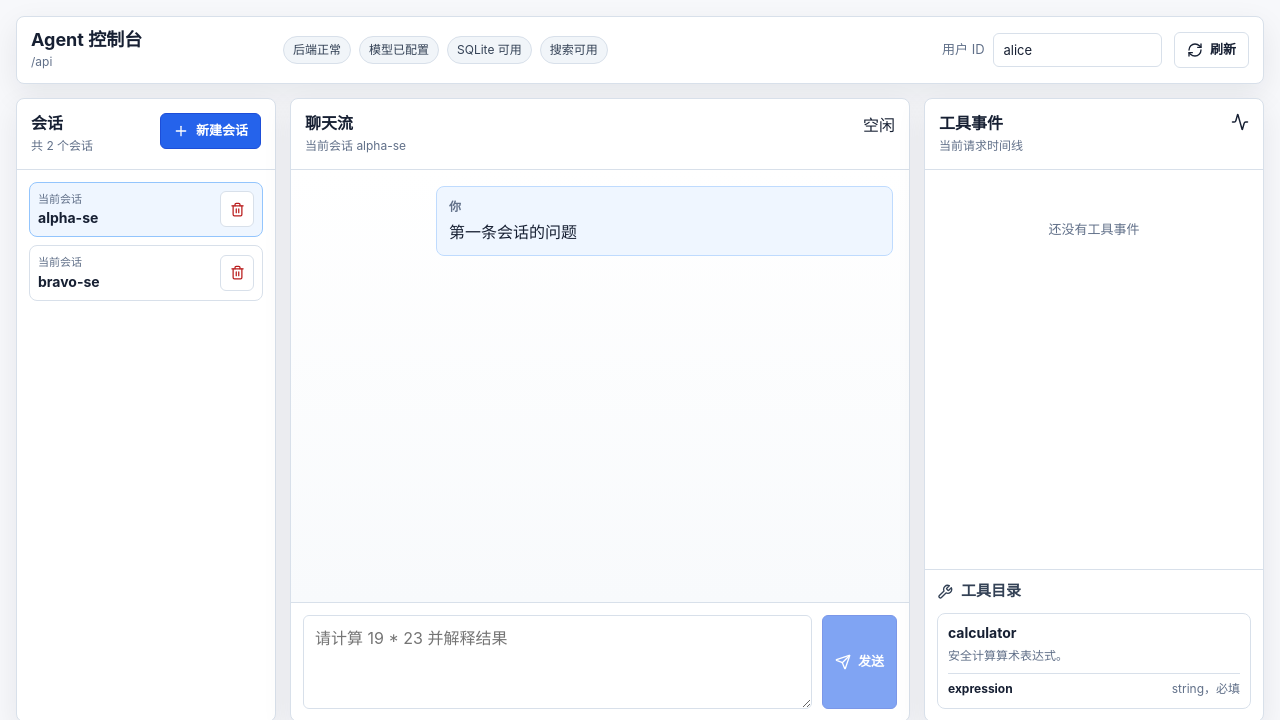
Test: Agent 控制台 › 切换会话后加载并展示对应历史消息
Expected: the text "第一条会话的问题" is shown, x1=449 y1=222 x2=577 y2=242
Click the text "bravo-se".
click(69, 281)  # box x1=38 y1=273 x2=100 y2=290
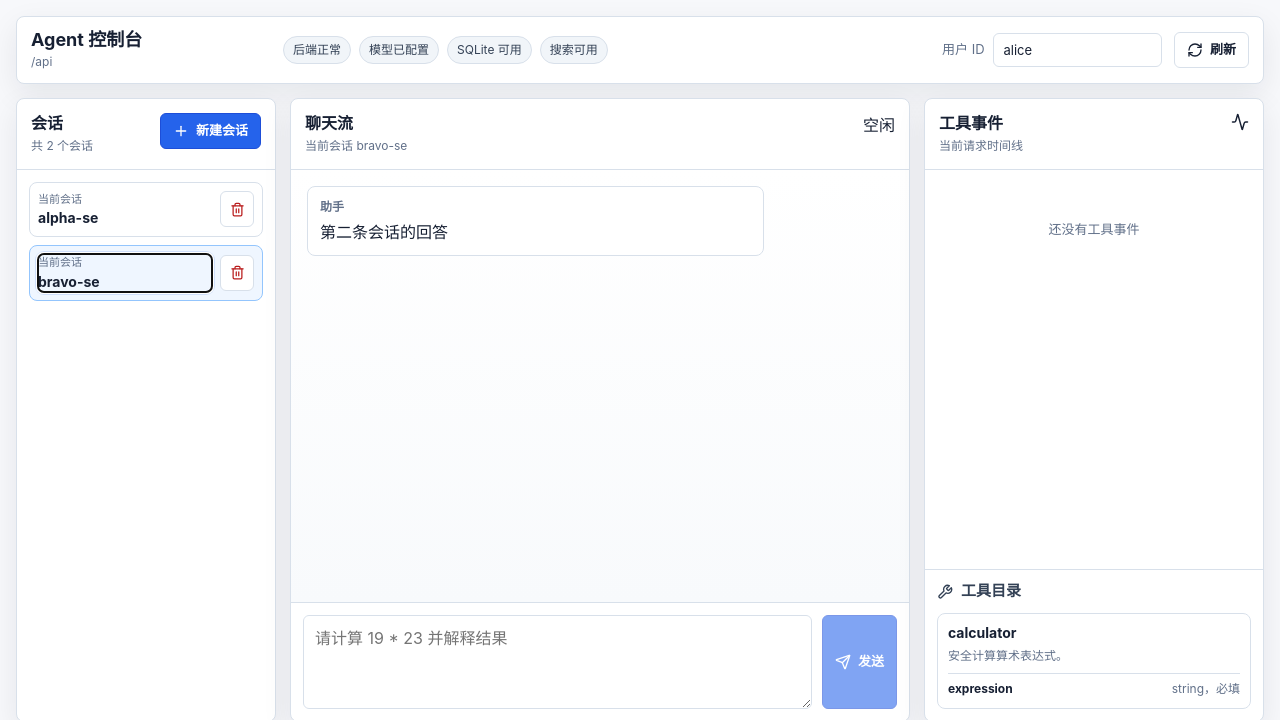
Expected: the text "第二条会话的回答" is shown, x1=320 y1=222 x2=448 y2=242
Expected: the text "第一条会话的问题" is gone
